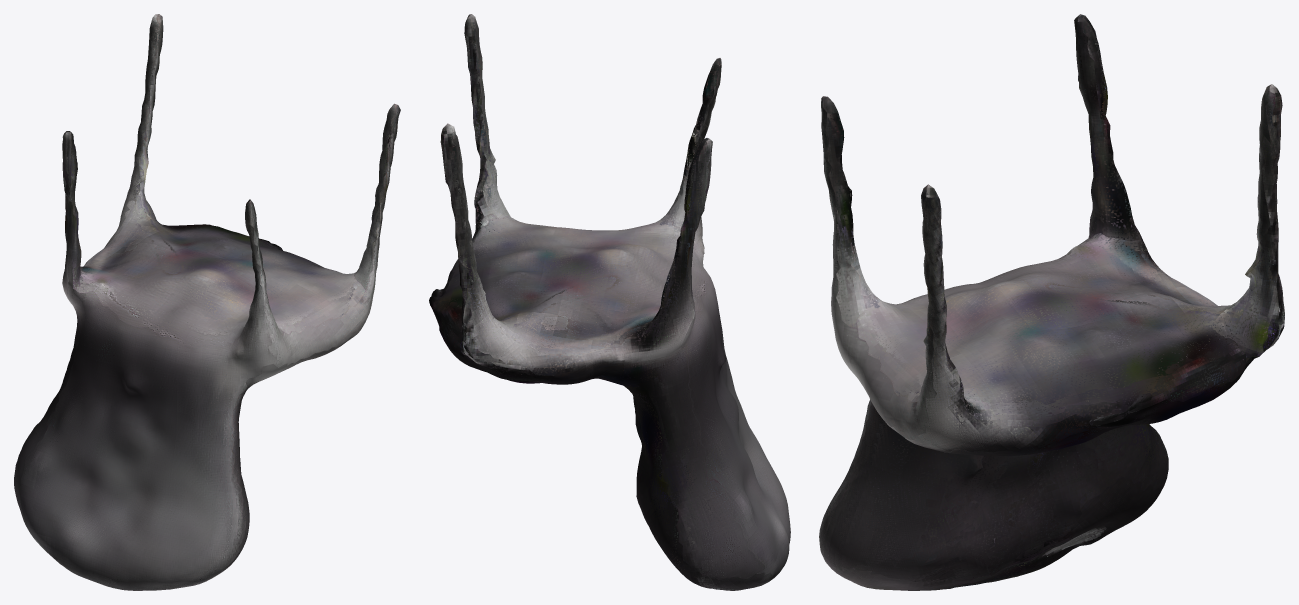
Rendered from 3_chair.glb.
3 renders of one model, left to right at view 1: azimuth 30°, elevation 25°; view 2: azimuth 150°, elevation 25°; view 3: azimuth 270°, elevation 25°, orthographic. The views are drawn at different scales.
Visible parts, largest first — view 1: 3_chair.obj; view 2: 3_chair.obj; view 3: 3_chair.obj.
Boxes of the visible parts, <box> form: 3_chair.obj: <box>14,14,400,590</box>; 3_chair.obj: <box>429,14,790,590</box>; 3_chair.obj: <box>819,14,1284,590</box>.
Size of the model in its own units: 0.8784 by 1.16 by 0.8253.
Materials: 1 (1 with a texture image).
